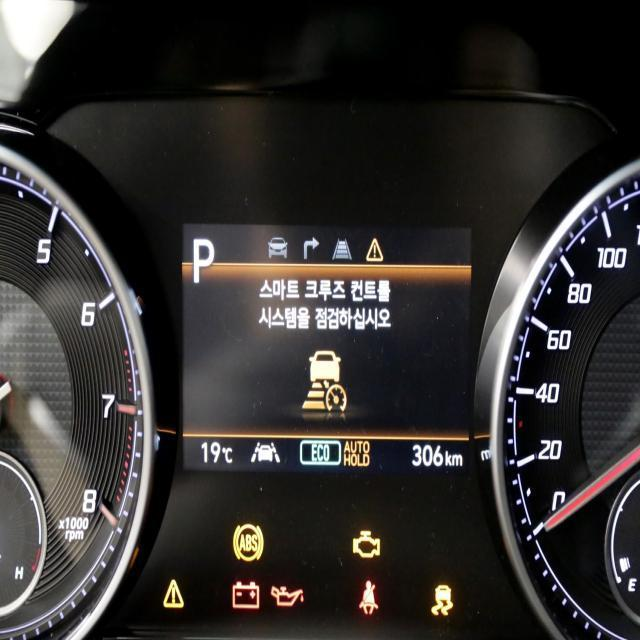Central Warning lamp: (161, 577, 184, 608), (365, 237, 383, 262)
